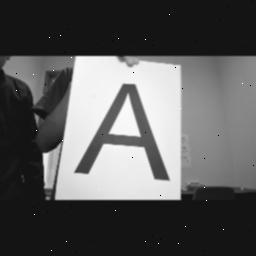a: (68, 73, 174, 189)
